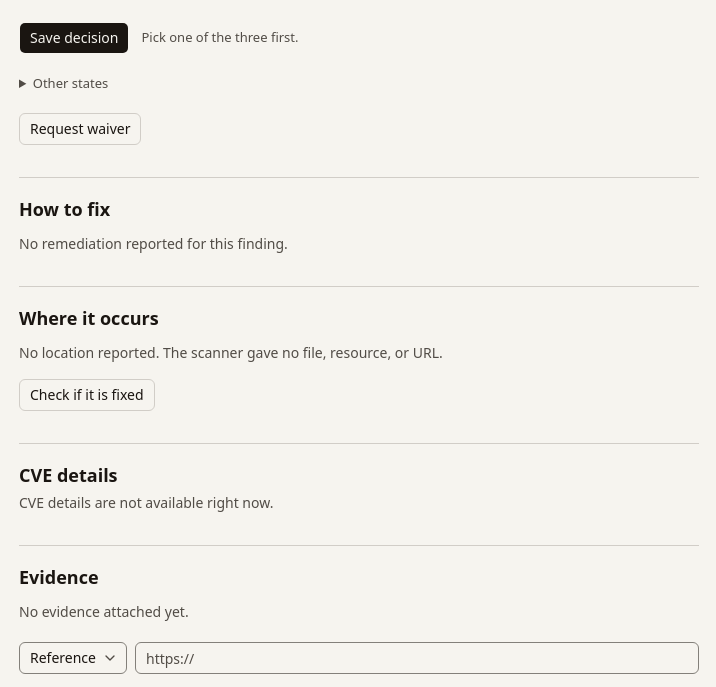
Scenario: the finding page's fix check › reports an inconclusive check with the server detail
(page scrolled)
Click the button "Check if it is fixed" at (87, 396), box [19,380,155,412]
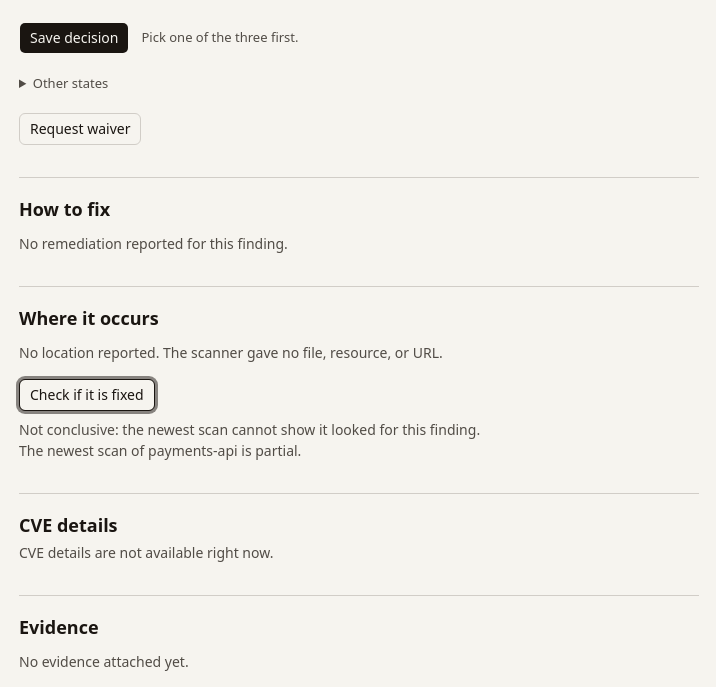
Expected: the message shows "Not conclusive: the newest scan cannot show it looked for this finding.", [19,420,480,440]
Expected: the text "The newest scan of payments-api is partial." is shown, [19,442,301,460]
